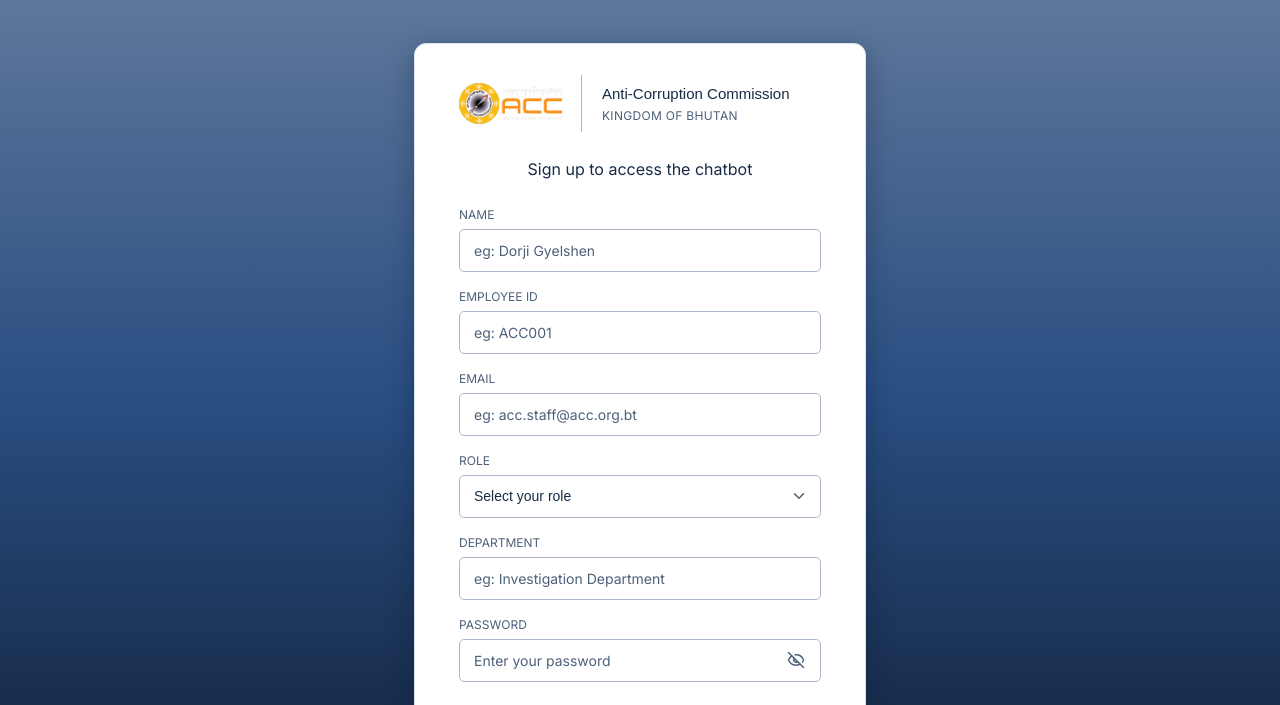
it: sign-up form › clears old errors when the user edits a field
Type "Test User" into the field labelled "NAME".
click(640, 250); type("Test User")  # box left=459, top=229, right=821, bottom=272
Type "ACC-1" into the field labelled "EMPLOYEE ID".
click(640, 332); type("ACC-1")  # box left=459, top=311, right=821, bottom=354
Type "staff@example.com" into the field labelled "EMAIL".
click(640, 414); type("staff@example.com")  # box left=459, top=393, right=821, bottom=436
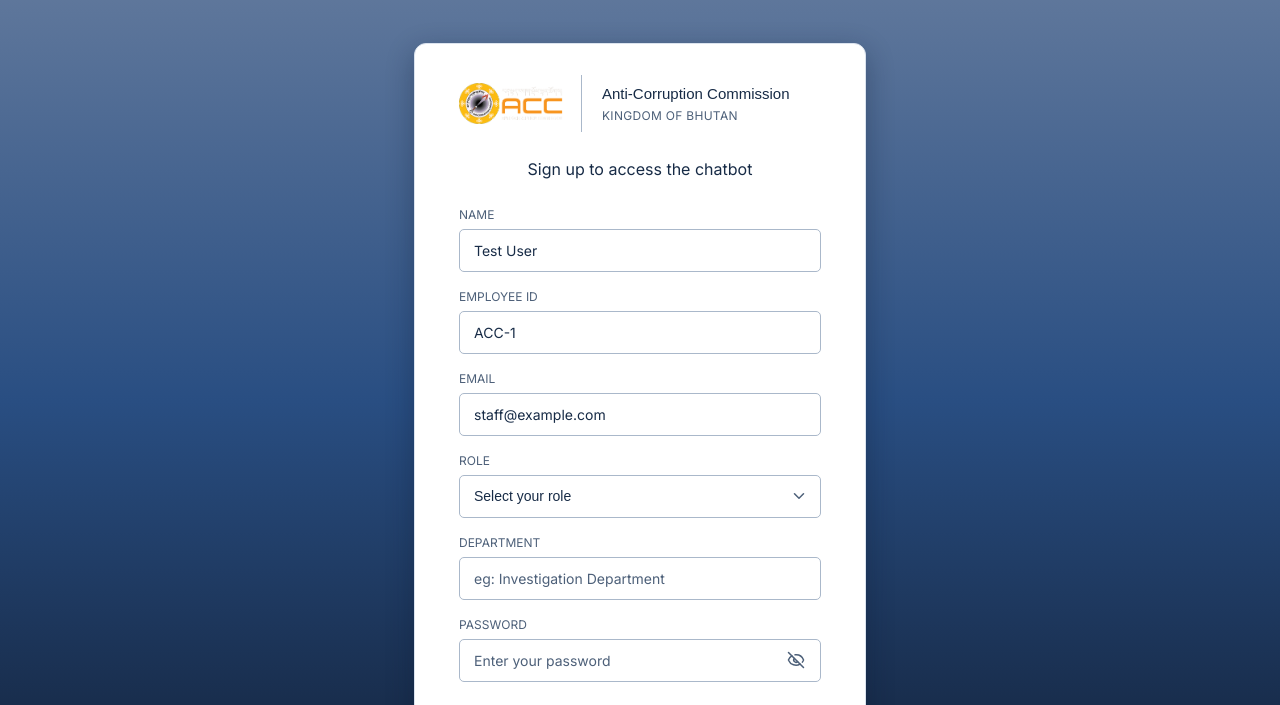
Type "Investigations" into the field labelled "DEPARTMENT".
click(640, 578); type("Investigations")  # box left=459, top=557, right=821, bottom=600
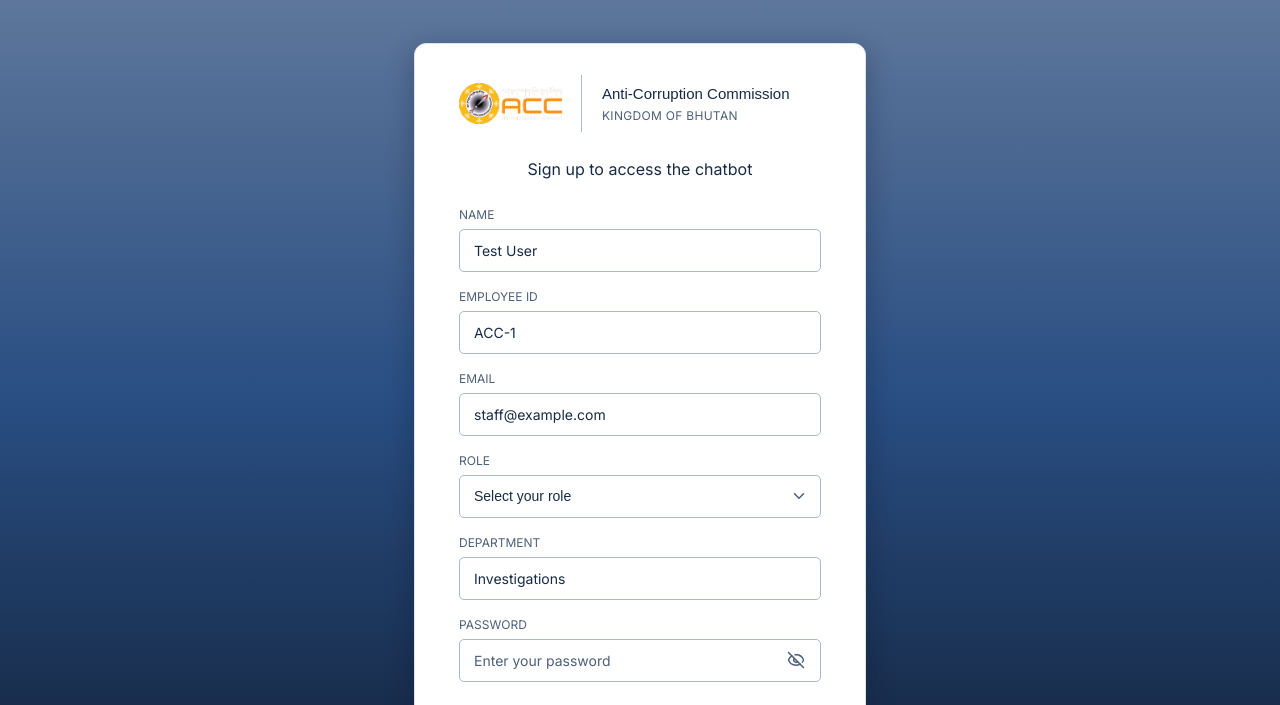
Type "Password1!" into the password field labelled "PASSWORD".
click(640, 660); type("Password1!")  # box left=459, top=639, right=821, bottom=682
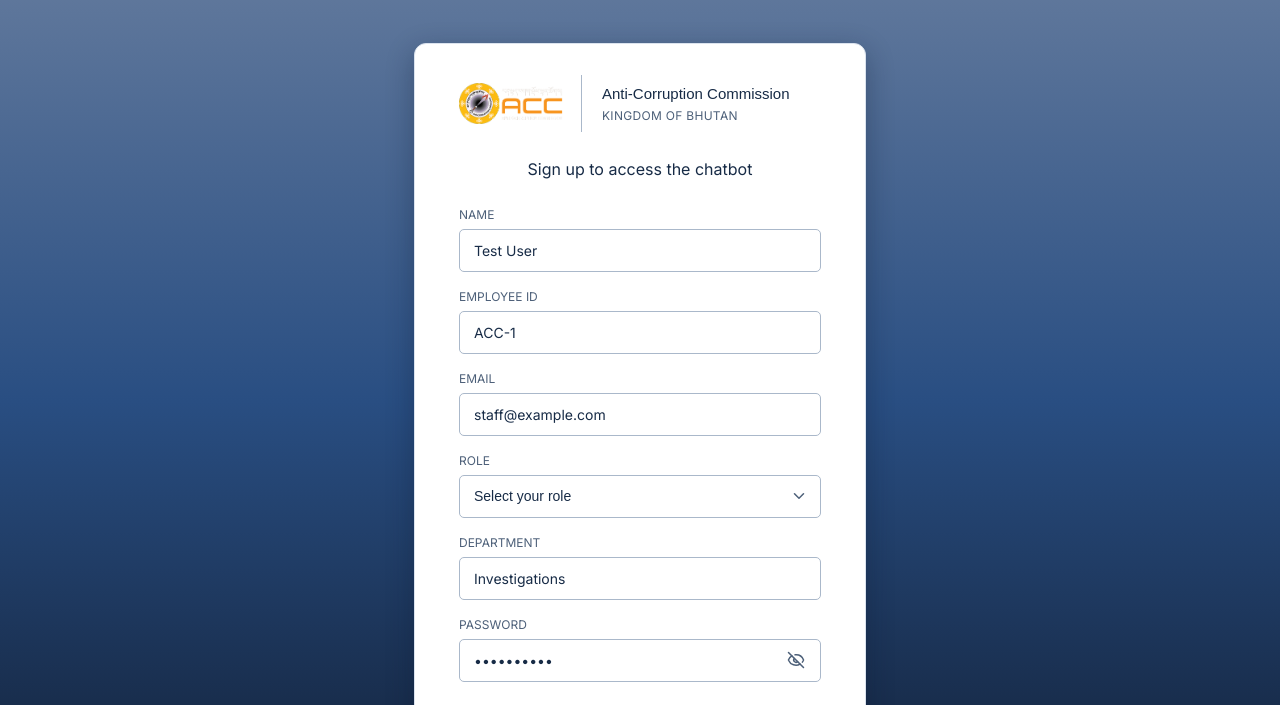
Select "Investigator" in the dropdown labelled "ROLE" at [640, 496], box left=459, top=475, right=821, bottom=518
(page scrolled)
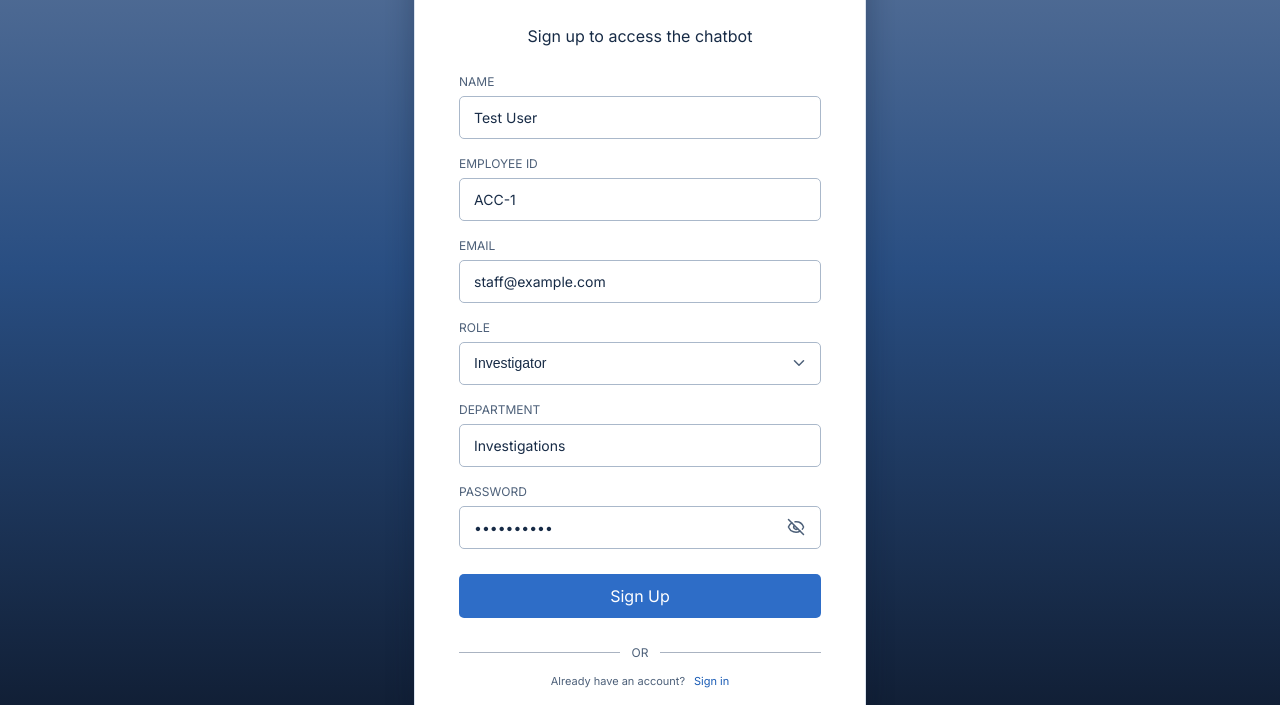
Submit the form "Sign Up", box left=459, top=74, right=821, bottom=618
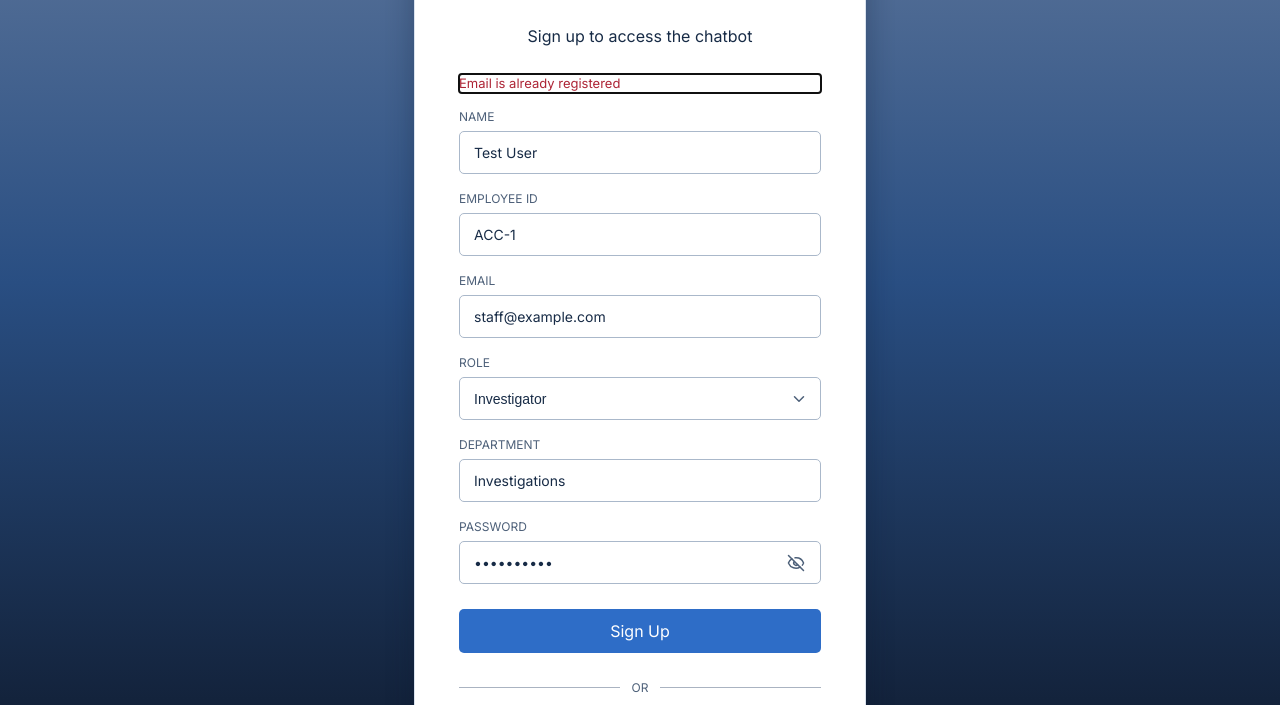
expect the message "Email is already registered" is shown: met, box left=459, top=75, right=620, bottom=91
Replace the text in the field labelled "EMAIL" with "another@example.com" at [640, 317], box left=459, top=296, right=821, bottom=338
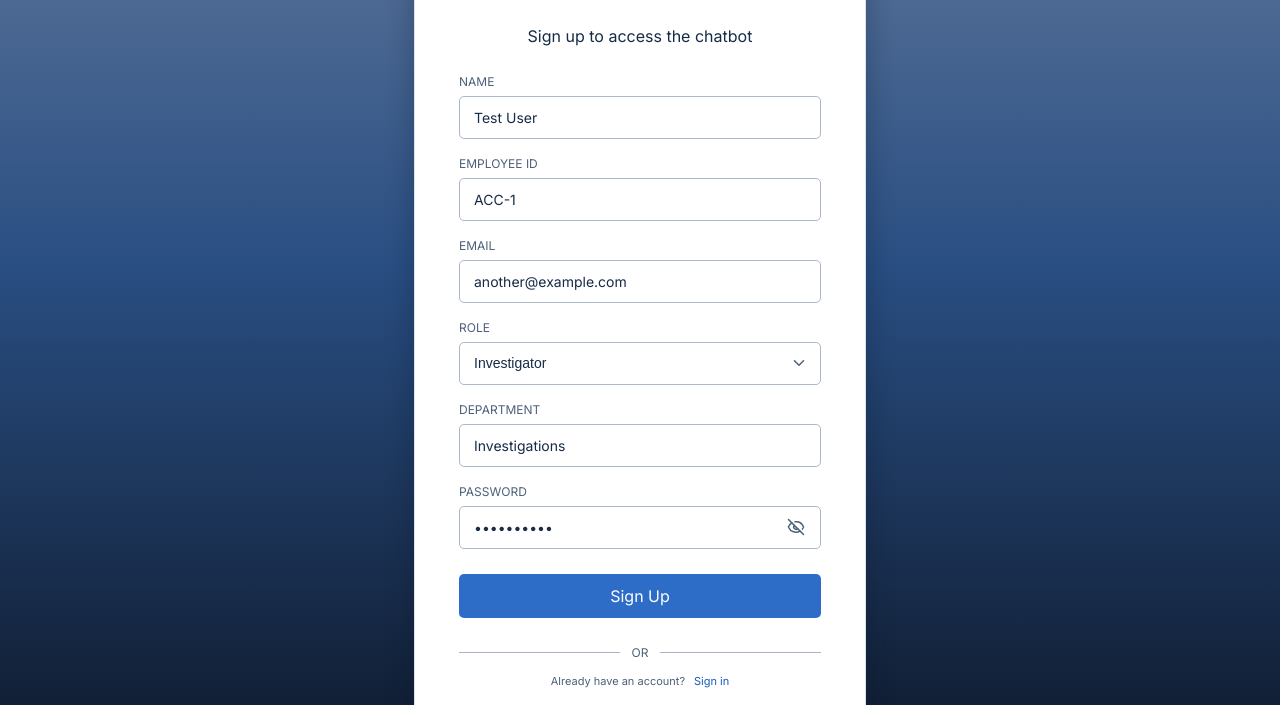
expect the message "Email is already registered" is gone: met
